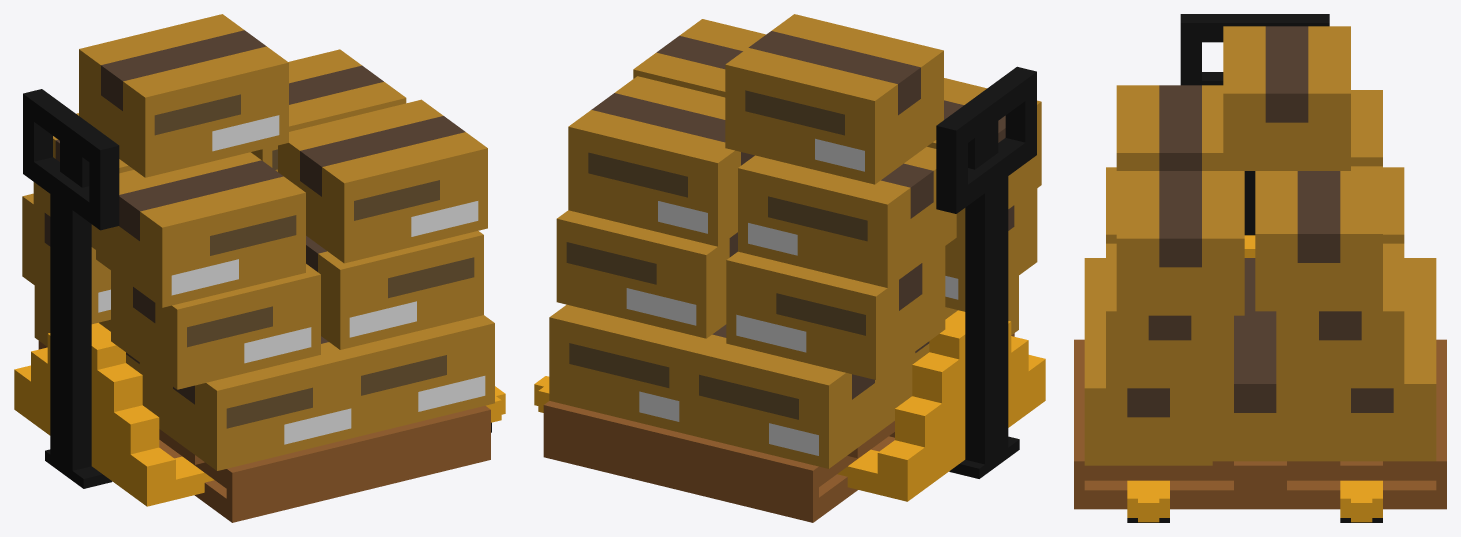
Rendered from Trolly.obj.
3 views of the same model, side by side, from view 1: azimuth 30°, elevation 25°; view 2: azimuth 150°, elevation 25°; view 3: azimuth 270°, elevation 25° (orthographic). The views are drawn at different scales.
Size of the model in its own units: 4 by 3.7 by 3.5.
1 material, 1 textured.
